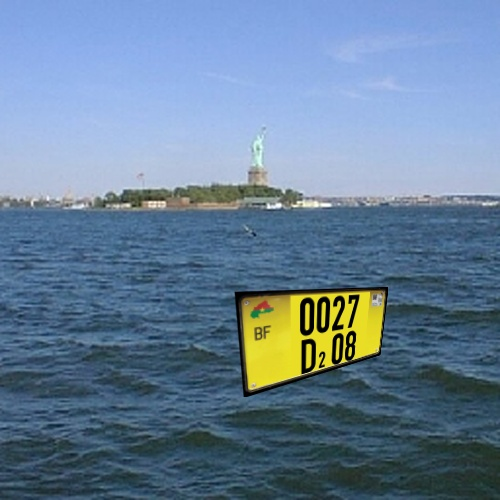plate: (226, 276, 405, 404)
